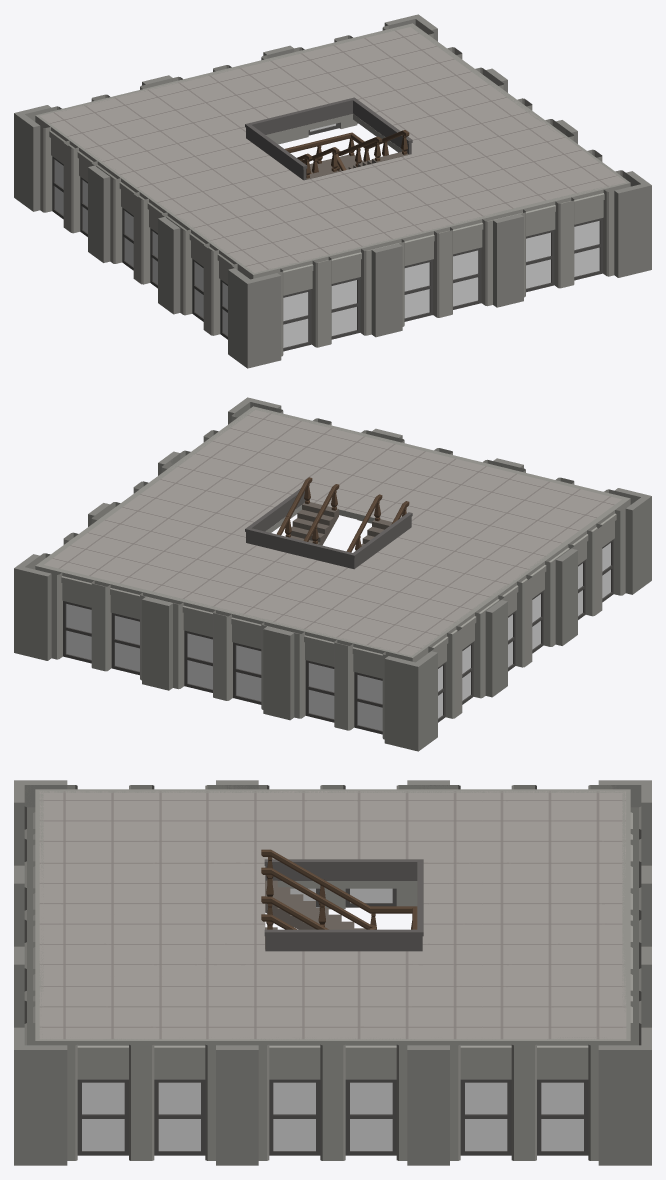
Rendered from SM_Bldg_City_High-Rise_01_Mid_03.fbx.
The picture shows the model from 3 angles, top to bottom: view 1: azimuth 30°, elevation 25°; view 2: azimuth 150°, elevation 25°; view 3: azimuth 270°, elevation 25°; orthographic projection. The views are drawn at different scales.
Parts seen in each view (by area): view 1: SM_Bldg_City_High-Rise_01_Mid_03, SM_Bldg_City_High-Rise_01_Mid_03_Glass; view 2: SM_Bldg_City_High-Rise_01_Mid_03, SM_Bldg_City_High-Rise_01_Mid_03_Glass; view 3: SM_Bldg_City_High-Rise_01_Mid_03, SM_Bldg_City_High-Rise_01_Mid_03_Glass.
Part boxes in pixels (x1,y1,x2,y2): SM_Bldg_City_High-Rise_01_Mid_03: [14, 14, 651, 368]; SM_Bldg_City_High-Rise_01_Mid_03_Glass: [55, 123, 599, 347]; SM_Bldg_City_High-Rise_01_Mid_03: [14, 397, 651, 751]; SM_Bldg_City_High-Rise_01_Mid_03_Glass: [66, 543, 610, 730]; SM_Bldg_City_High-Rise_01_Mid_03: [14, 780, 651, 1165]; SM_Bldg_City_High-Rise_01_Mid_03_Glass: [82, 888, 583, 1150].
Size of the model in its own units: 1500 by 384 by 1500.
